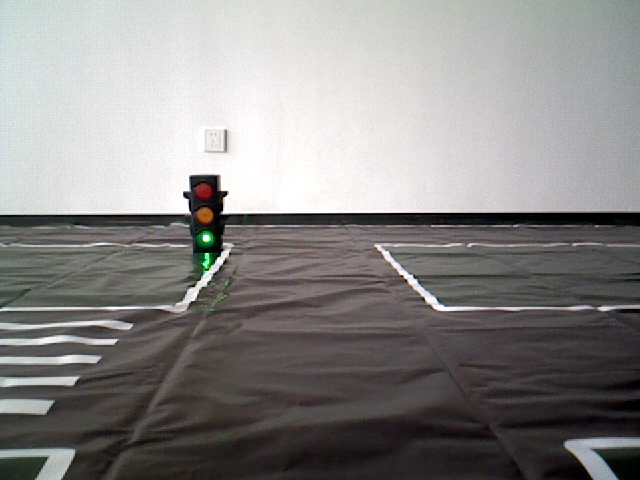green: (189, 178, 220, 247)
